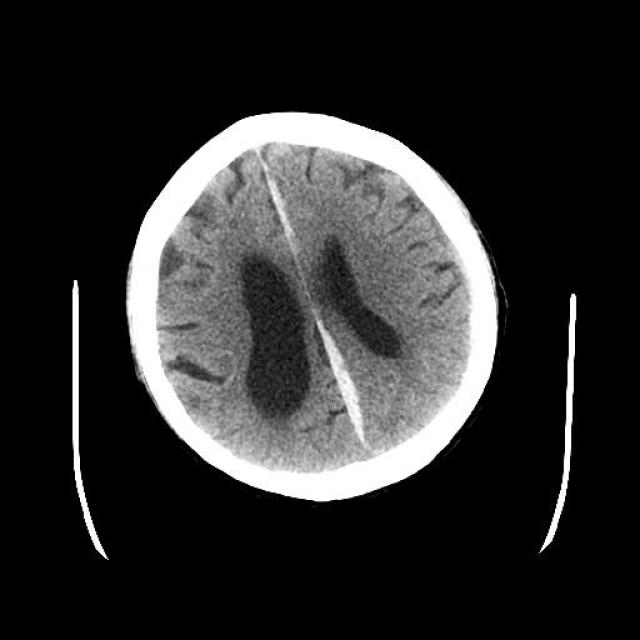Subdural: (307, 311, 388, 460), (258, 152, 312, 252)
